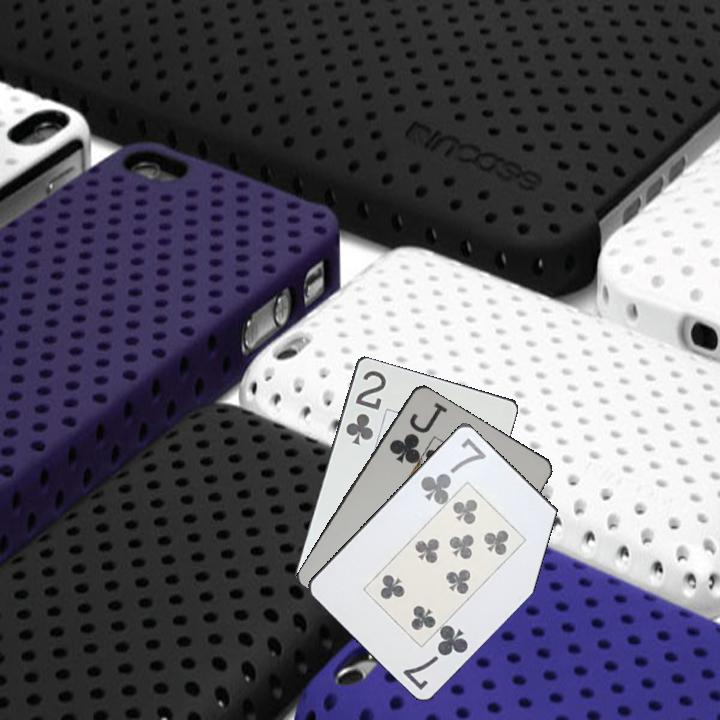2c: (342, 366, 389, 448)
7c: (399, 621, 471, 693), (417, 434, 488, 506)
Jc: (386, 398, 447, 466)
